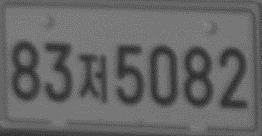0: (150, 45, 176, 104)
2: (220, 47, 249, 110)
3: (44, 41, 71, 103)
5: (116, 45, 143, 105)
8: (10, 40, 41, 100), (184, 47, 213, 107)
저: (76, 53, 109, 104)
